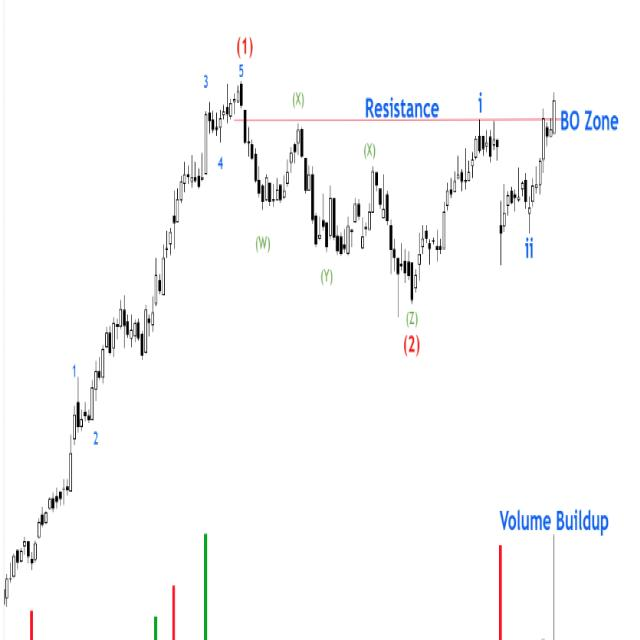Channel-down: (192, 72, 460, 352)
